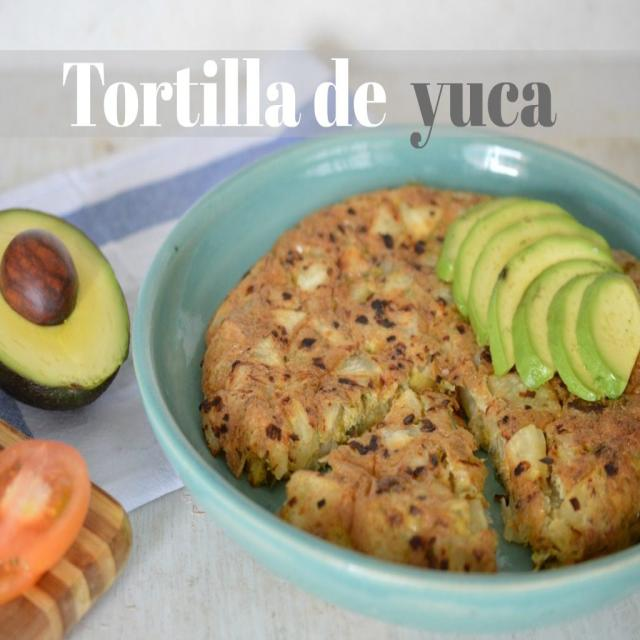aguacate: (437, 188, 640, 412), (3, 190, 133, 425)
